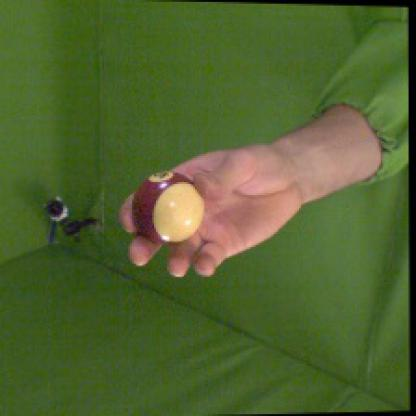Hand: (118, 143, 306, 279)
